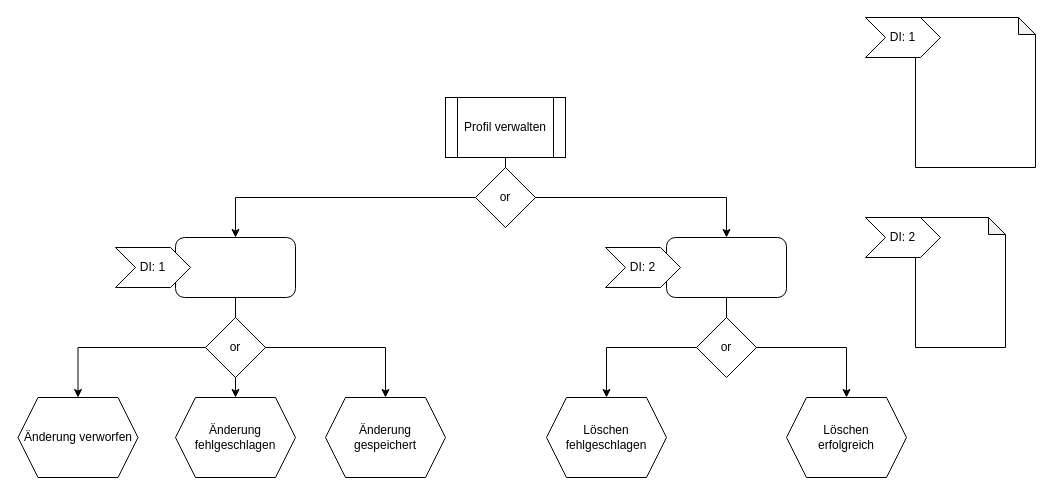
Some shapes in this 1053 by 495 pixel diagram are drawn without their labels. Each missing label, with the box of its shape:
- Passwort eingeben: (914, 216, 1006, 348)
- User Name - (E-Mail) - Passwort - (Profilbild) - Bevorzugte Farbe: (914, 16, 1036, 168)
Profil bearbeiten: (174, 236, 296, 298)
Profil löschen: (666, 236, 786, 298)
